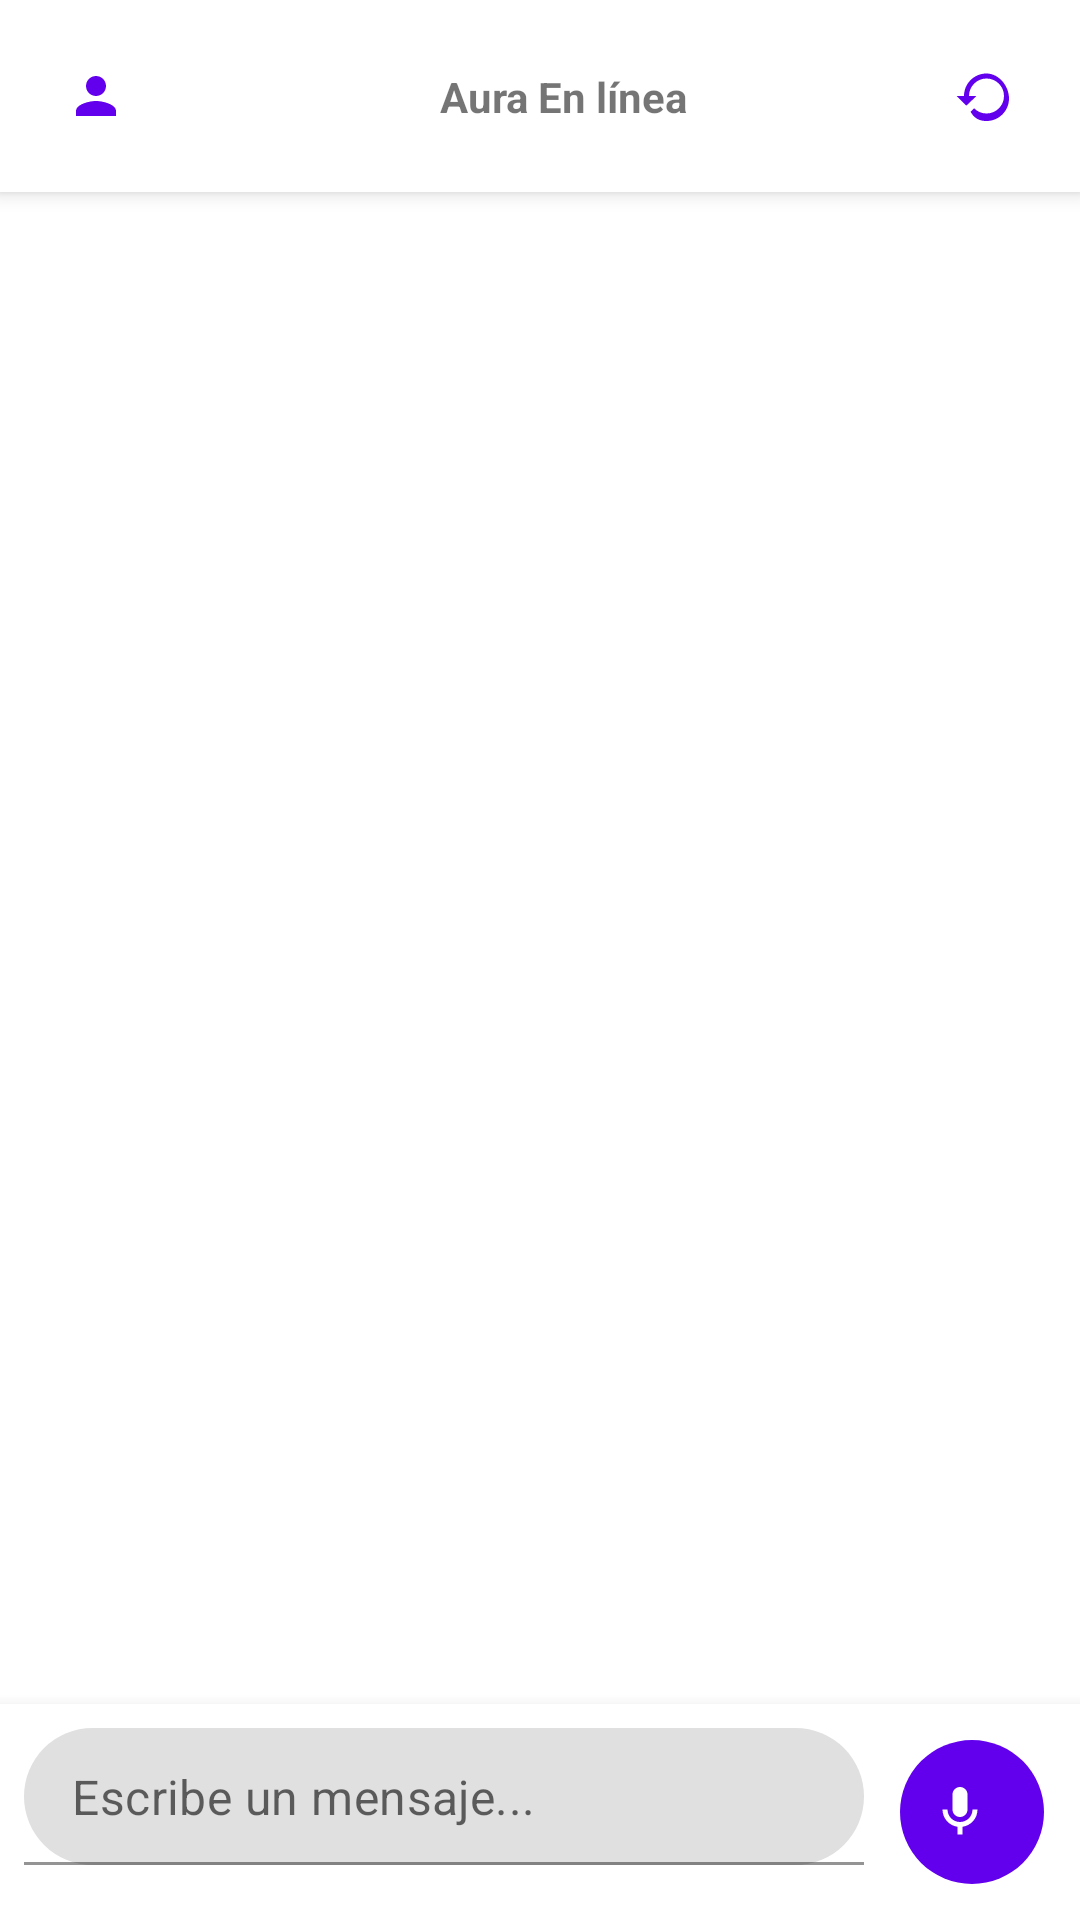

Icon bounding boxes for this 1080px×1920px phone screenshot, format box(x1, y1, x2, y2):
Mantener para dictar mensaje por voz: box(900, 1740, 1044, 1884)
Reiniciar conversación: box(957, 73, 1009, 121)
